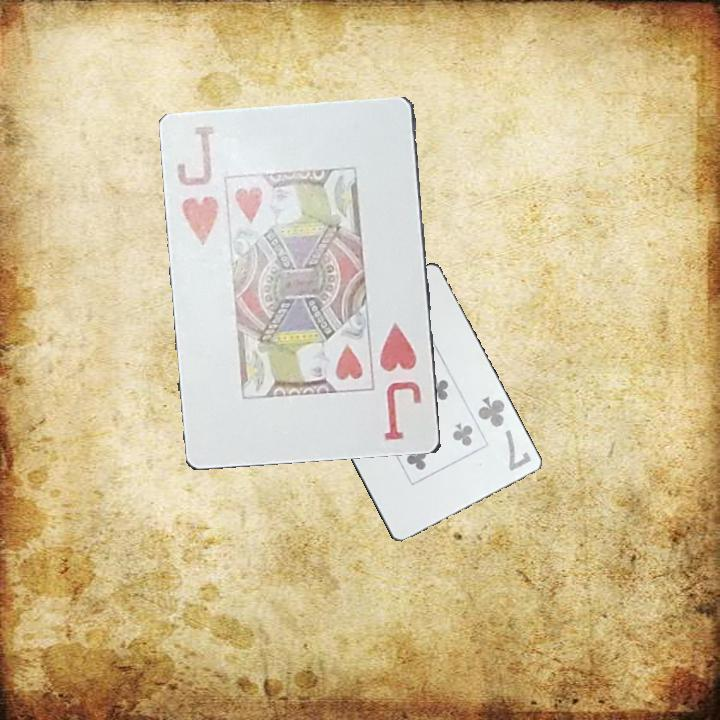7c: (474, 393, 534, 474)
Jh: (376, 320, 425, 444), (174, 123, 222, 249)
